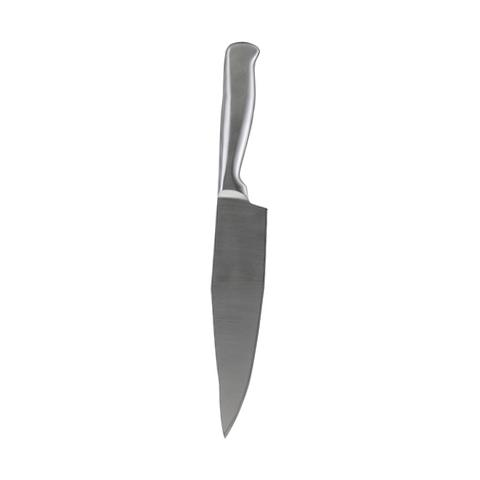knife: (209, 43, 268, 438)
